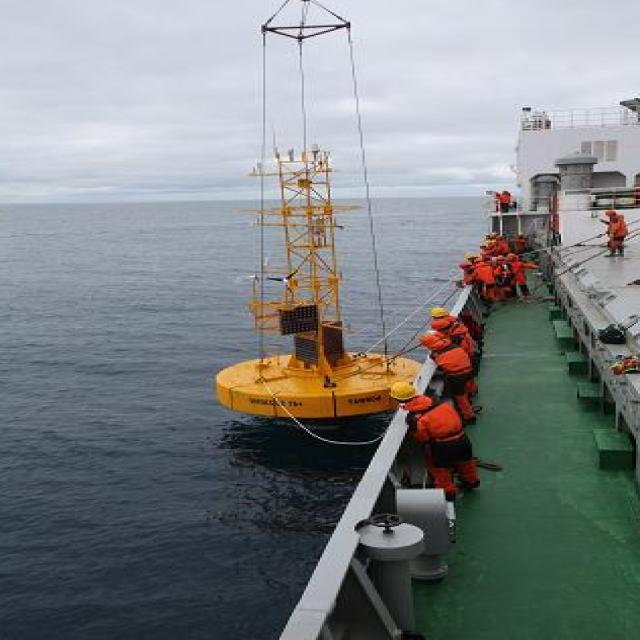buoy: (207, 139, 419, 414)
